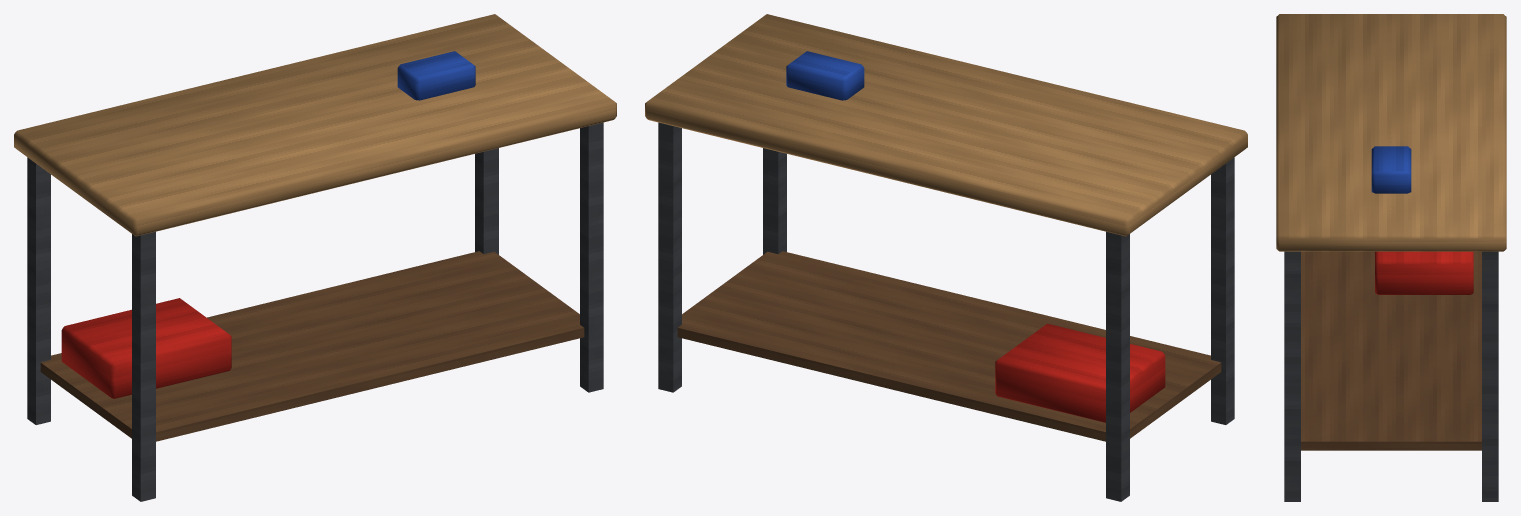
File: bancada_trabalho.glb
The picture shows the model from 3 angles, left to right: view 1: azimuth 30°, elevation 25°; view 2: azimuth 150°, elevation 25°; view 3: azimuth 270°, elevation 25°; orthographic projection. The views are drawn at different scales.
Visible parts, largest first — view 1: Inteiro; view 2: Inteiro; view 3: Inteiro.
Boxes of the visible parts, left/top/right/bottom form: Inteiro: left=14, top=14, right=616, bottom=501; Inteiro: left=645, top=14, right=1247, bottom=501; Inteiro: left=1276, top=14, right=1506, bottom=501.
Bounding box in the file's own units: 1.6 × 0.98 × 0.7.
Materials: 1 (1 with a texture image).
